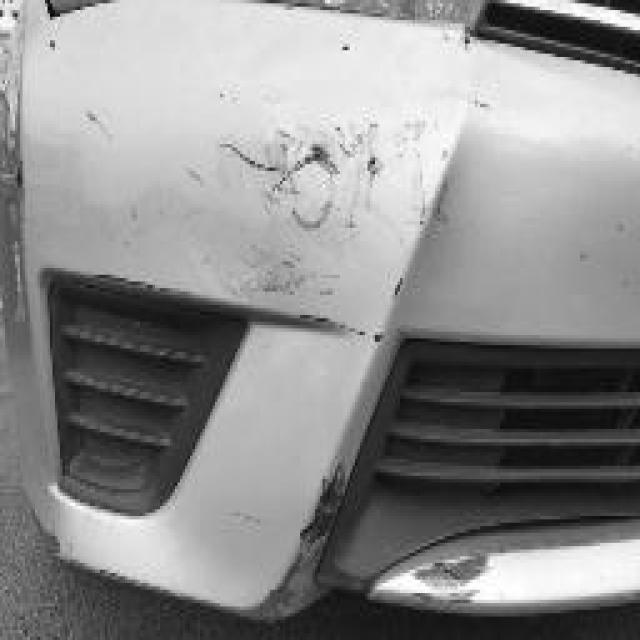Bumper: (68, 40, 508, 493)
